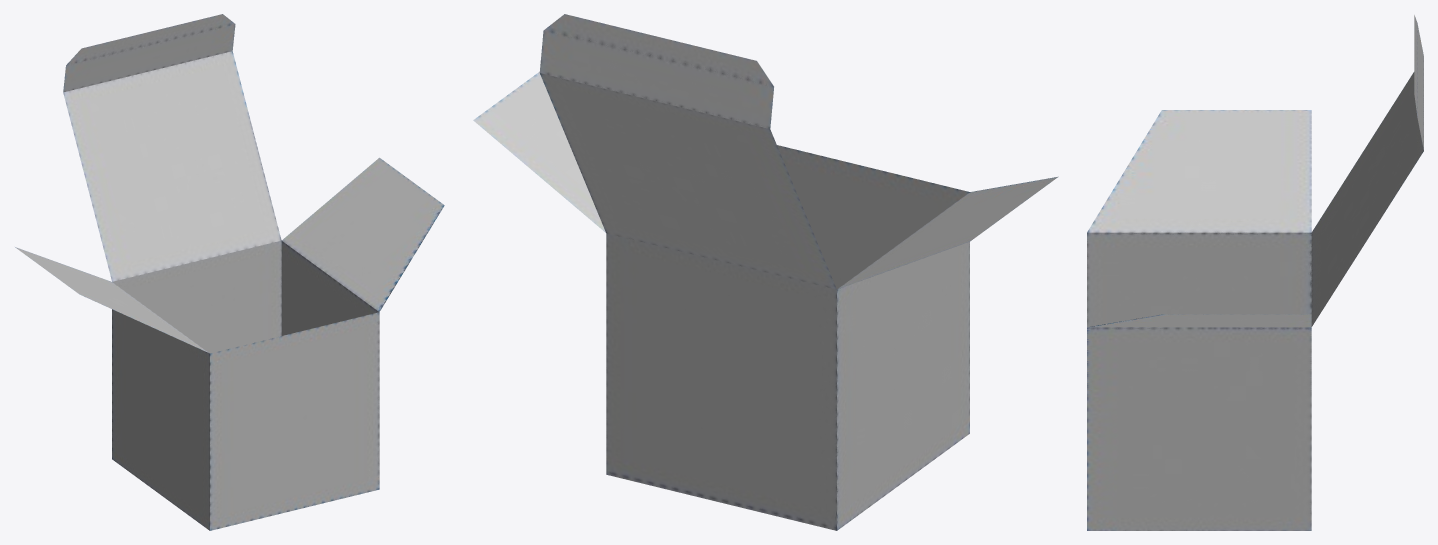
File: sandbox.glb
3 renders of one model, left to right at view 1: azimuth 30°, elevation 25°; view 2: azimuth 150°, elevation 25°; view 3: azimuth 270°, elevation 25°, orthographic. The views are drawn at different scales.
Parts seen in each view (by area): view 1: Plane; view 2: Plane; view 3: Plane.
Part boxes in pixels (box(x1,y1,x2,y2)): Plane: box(15, 14, 444, 530); Plane: box(473, 14, 1058, 530); Plane: box(1087, 15, 1423, 530).
Bounding box in the file's own units: 1.97 × 1.93 × 1.37.
1 material, 1 textured.
